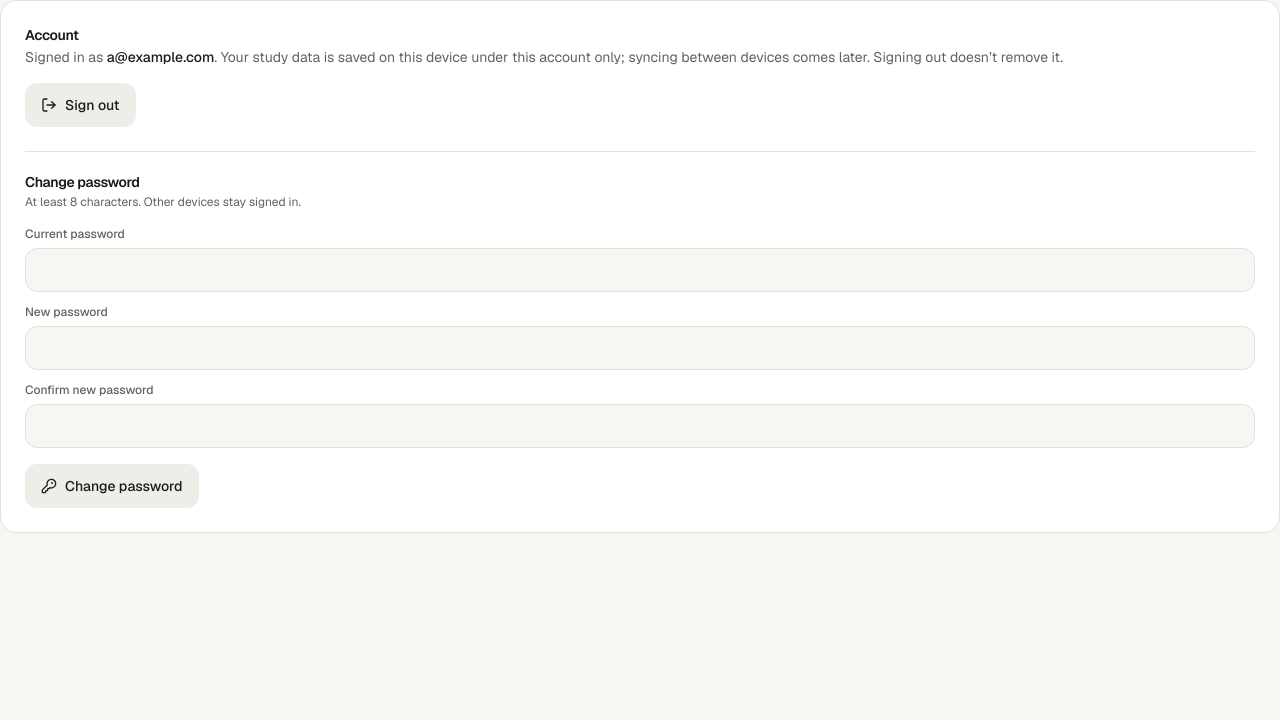
it: change password › rejects a wrong current password without changing anything
In the password field labelled "Current password": (640, 270) [25,248,1255,292], type "not-my-password"
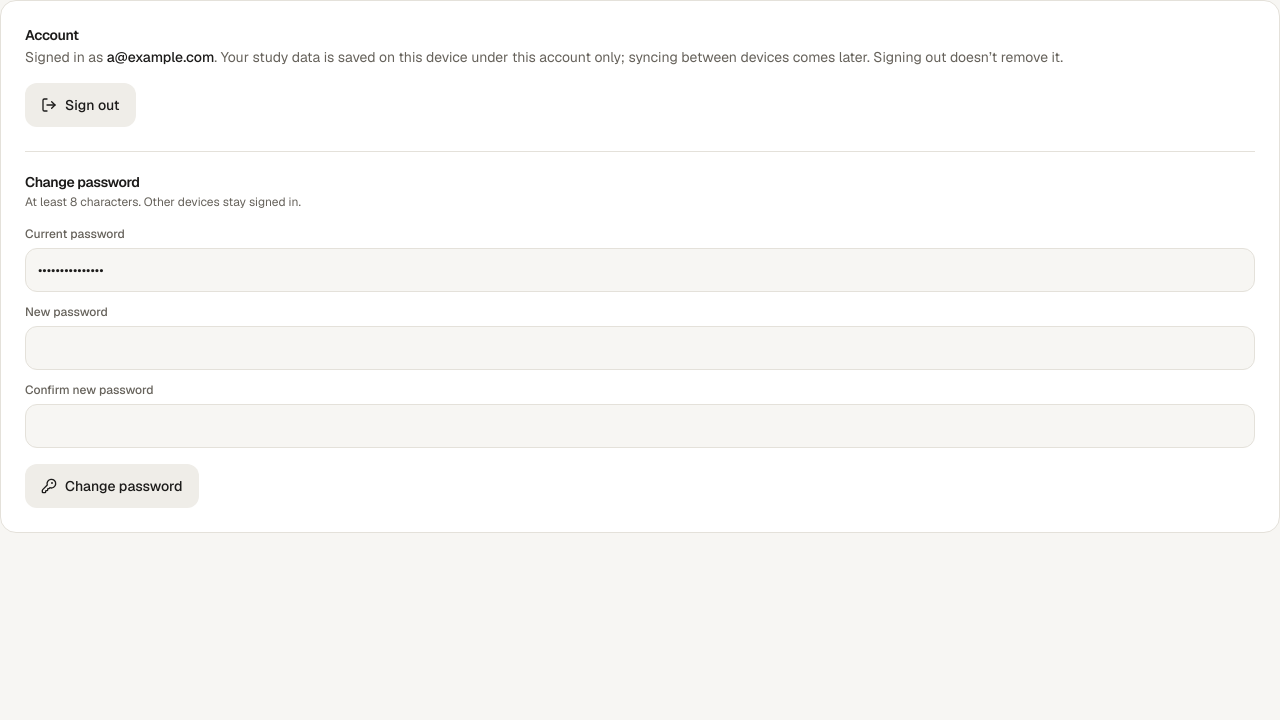
In the password field labelled "New password": (640, 348) [25,326,1255,370], type "new-password-1"
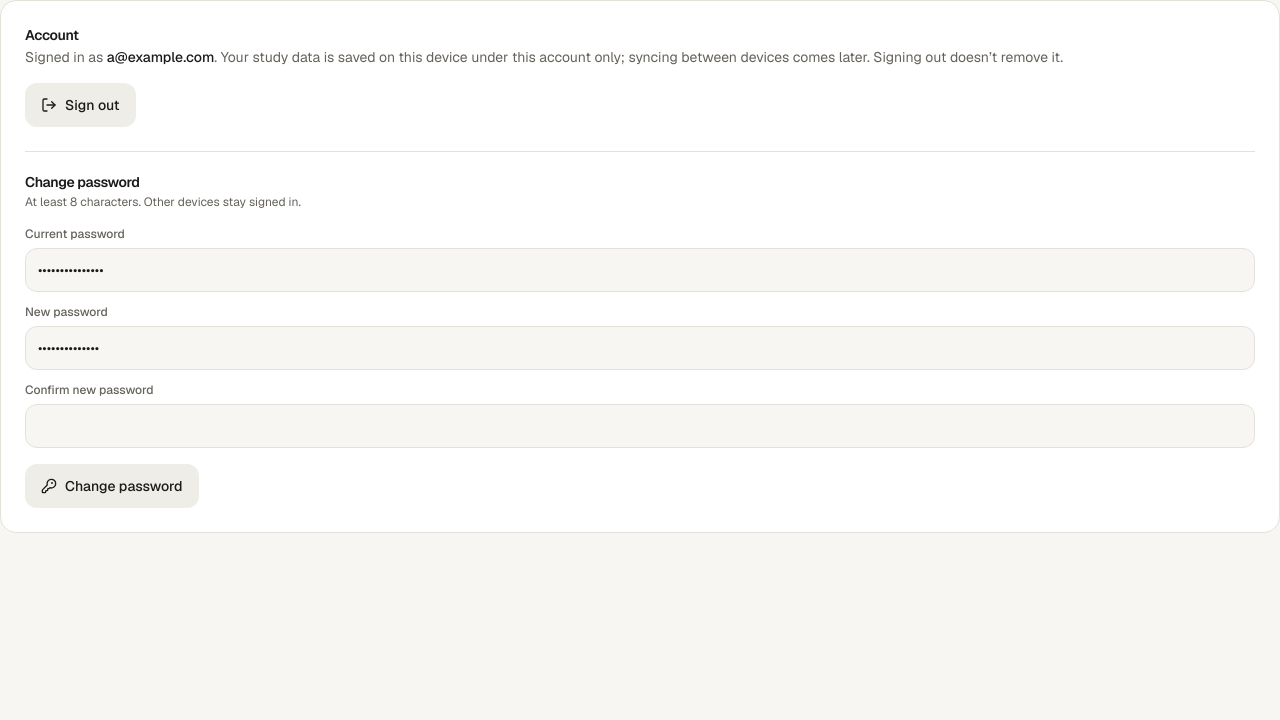
In the password field labelled "Confirm new password": (640, 426) [25,404,1255,448], type "new-password-1"
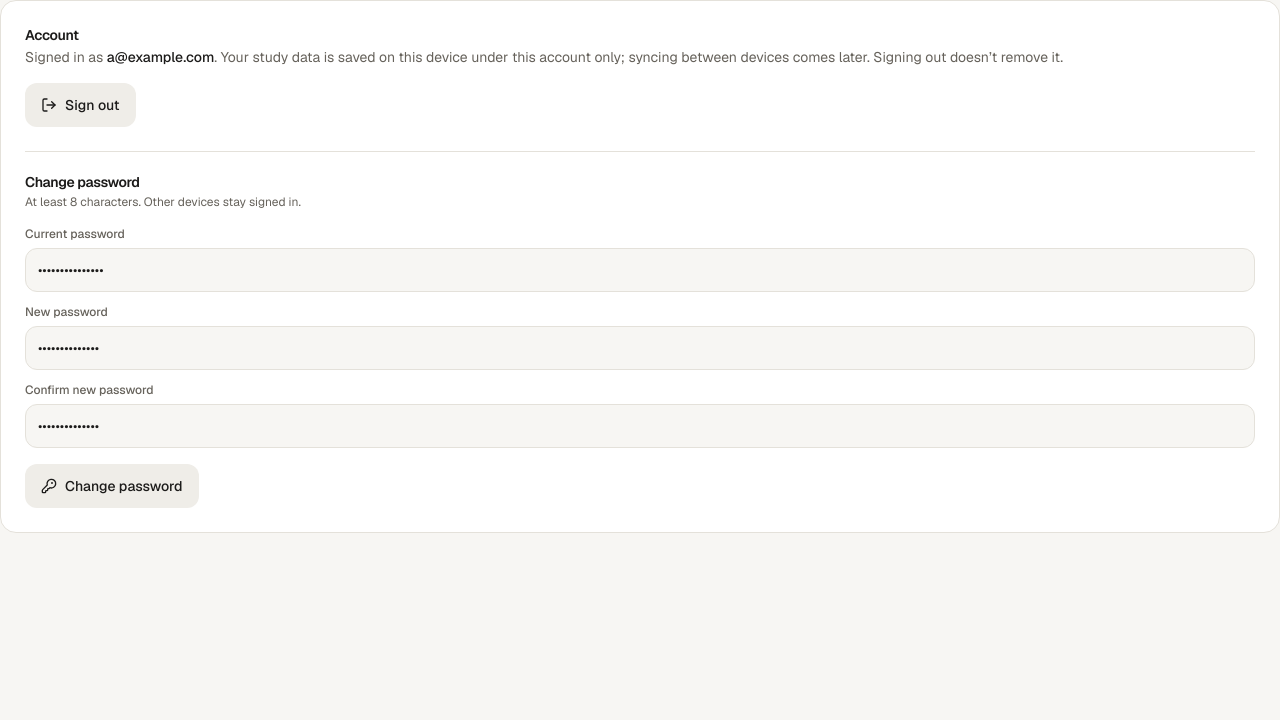
Click the button "Change password": (112, 486) [25,464,198,508]
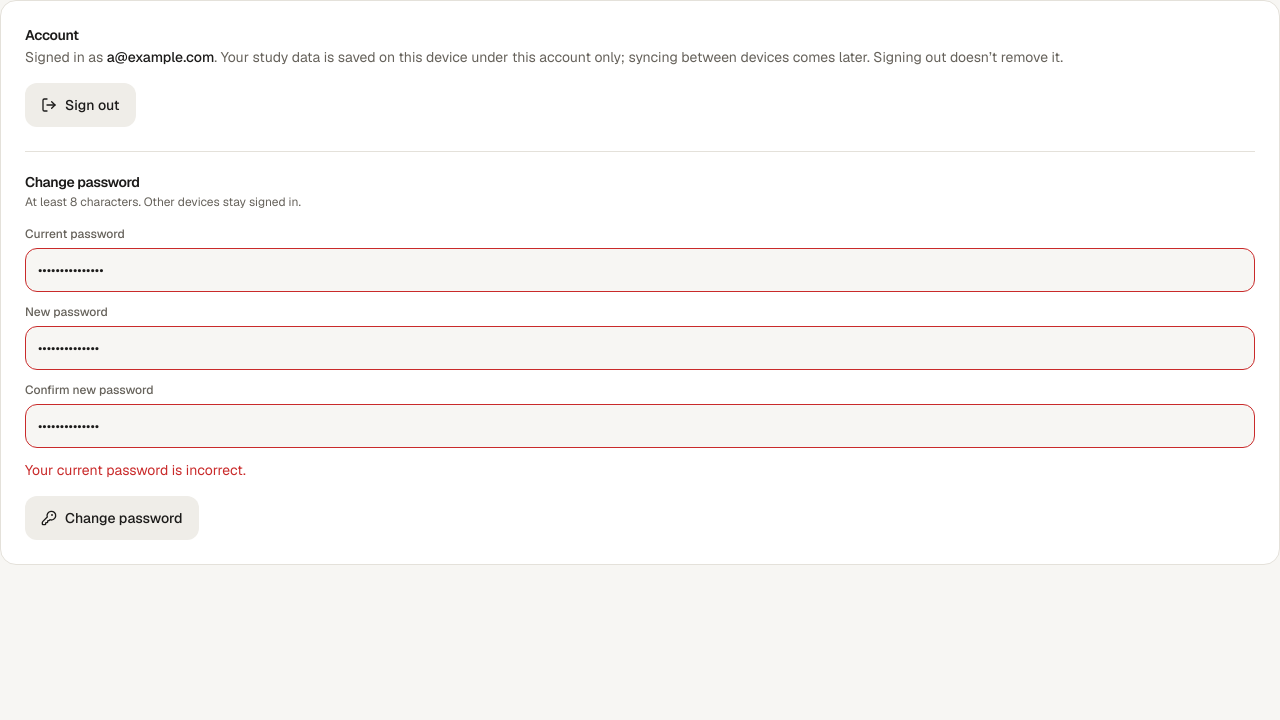
Result: the message reads "Your current password is incorrect." at [25,461,246,479]
